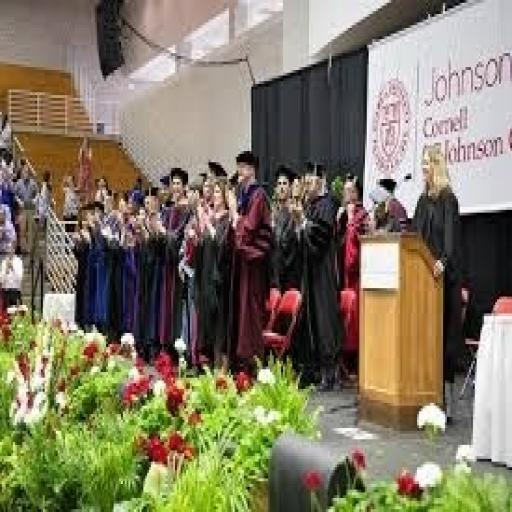clapping: (136, 144, 216, 398), (222, 155, 292, 413), (192, 156, 246, 359), (72, 181, 125, 334)
